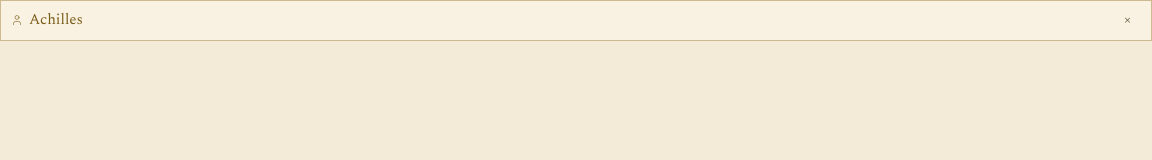
Test: WikiLinkPicker candidates › excludes the folio already selected
What coordinates should you click on to do the following:
click the text "Achilles"
I would click on:
 (56, 20)
Its box is x1=29 y1=8 x2=83 y2=33.
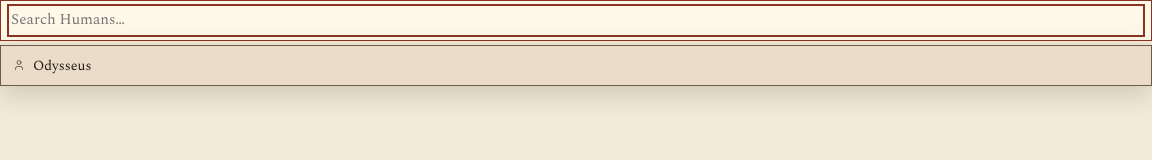
Check: the options read "Odysseus", in this order, box x1=1 y1=46 x2=1151 y2=85
